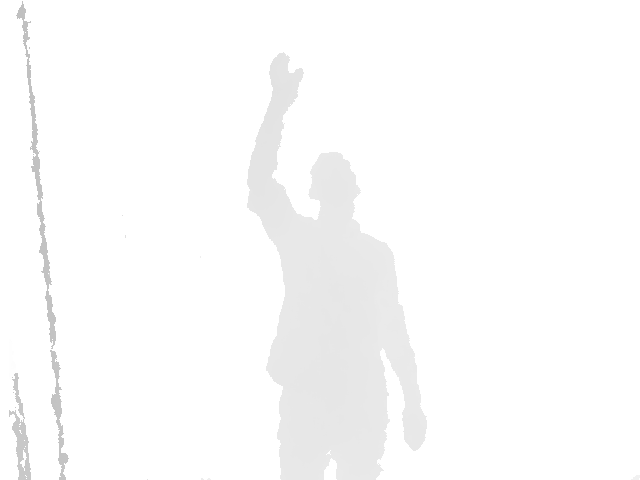hand: (268, 53, 303, 107)
hand_down: (401, 406, 427, 452)
head: (309, 151, 362, 213)
person: (245, 53, 428, 480)
